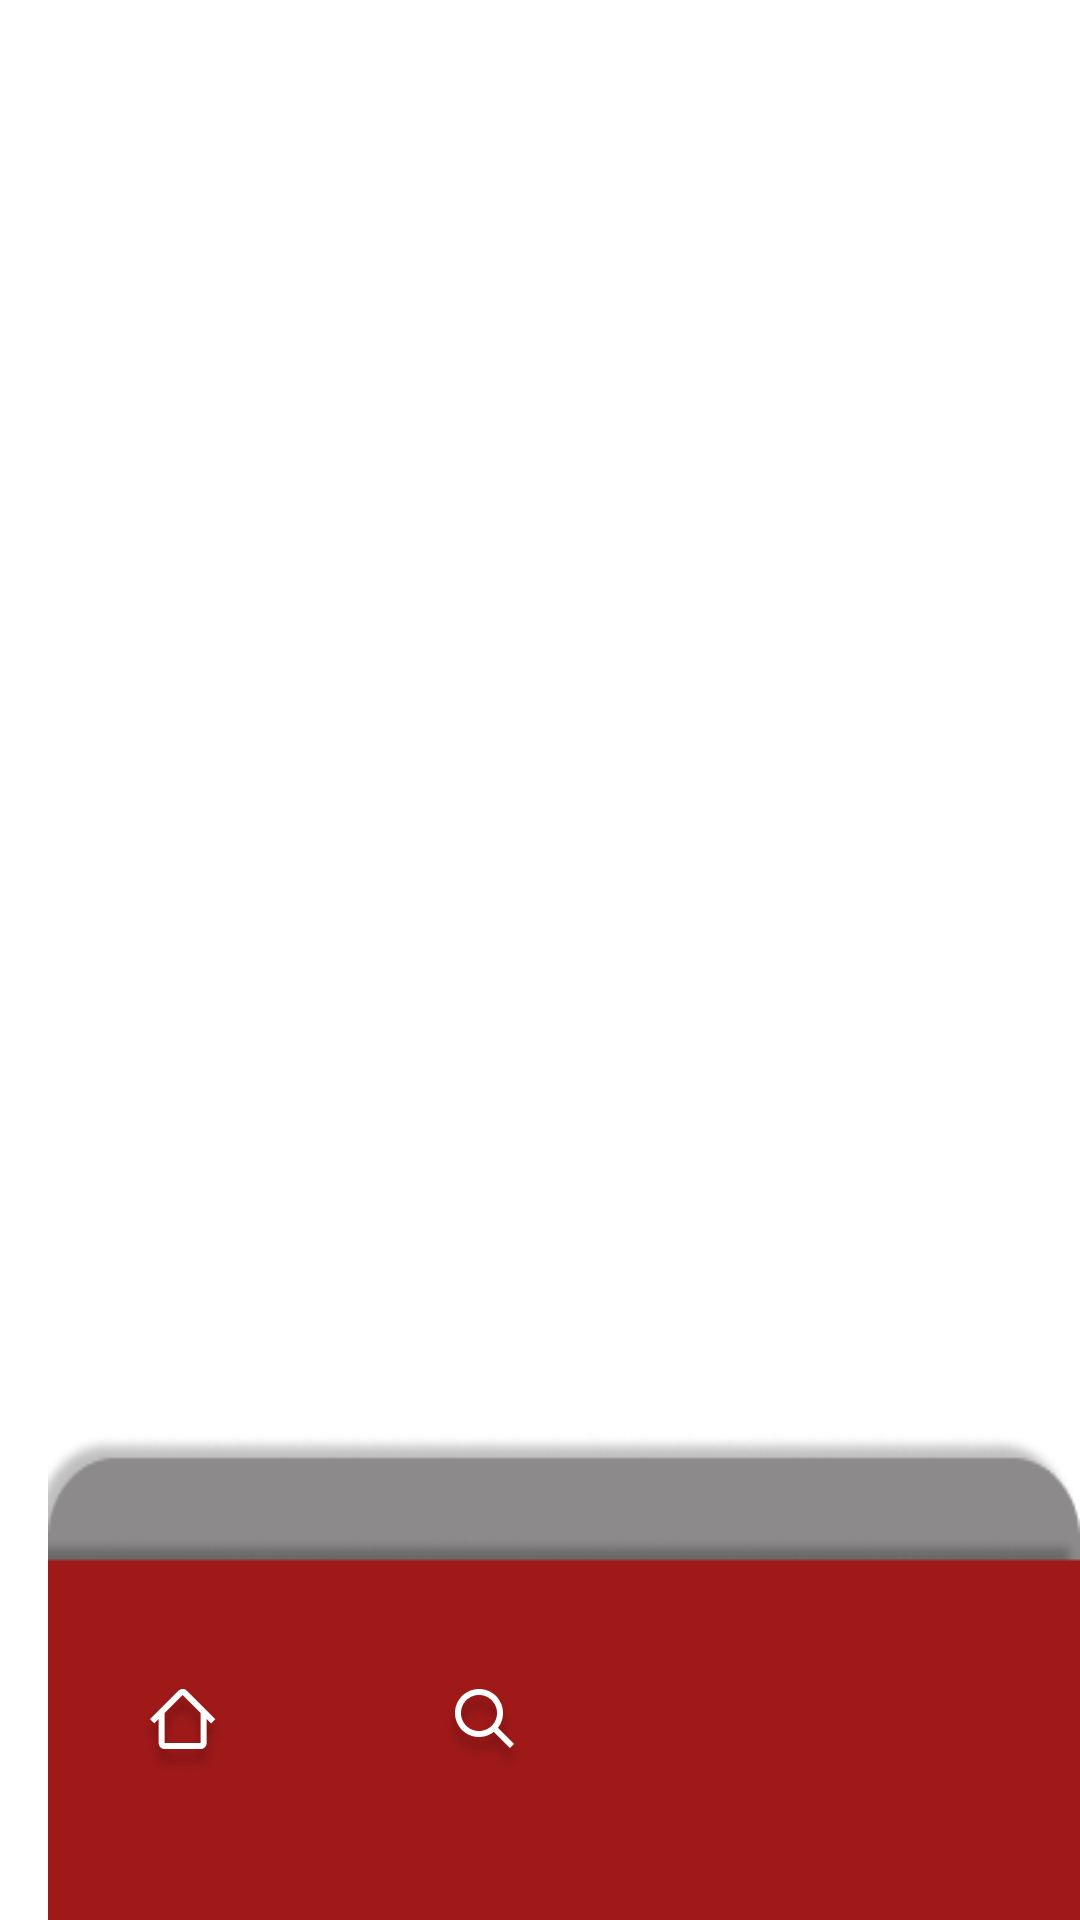

Icons on this 1080px×1920px Android screen, each with the point to tap as (x=x, y=y):
home: (x=183, y=1719)
search: (x=484, y=1718)
